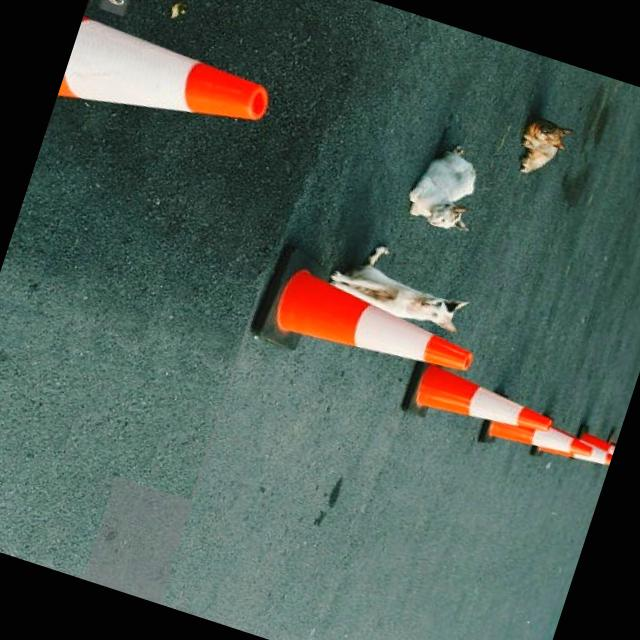cone: (51, 0, 325, 188), (240, 248, 497, 409), (400, 350, 576, 470)
